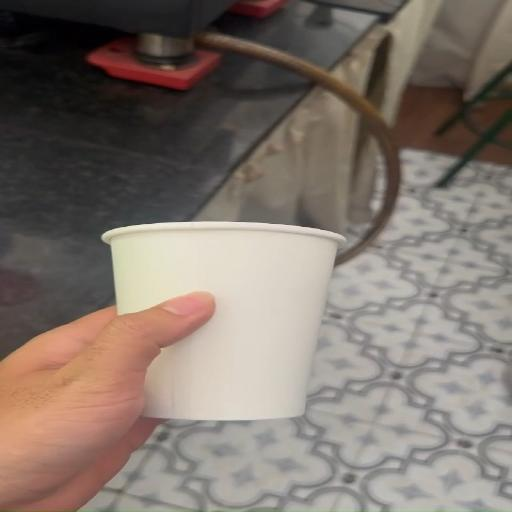ly_giay: (102, 222, 343, 420)
